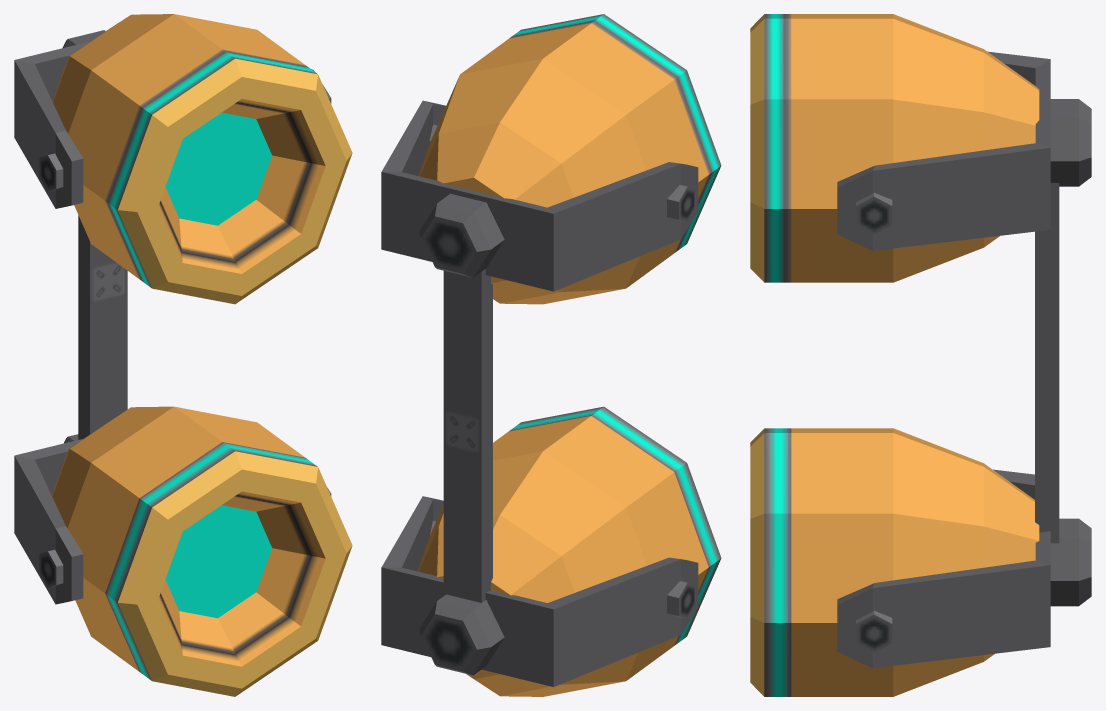
File: SM_Prop_Lamp_06.fbx
3 views of the same model, side by side, from view 1: azimuth 30°, elevation 25°; view 2: azimuth 150°, elevation 25°; view 3: azimuth 270°, elevation 25° (orthographic). The views are drawn at different scales.
Visible parts, largest first — view 1: SM_Prop_Lamp_06; view 2: SM_Prop_Lamp_06; view 3: SM_Prop_Lamp_06.
Boxes of the visible parts, box(x1,y1,x2,y2) form: SM_Prop_Lamp_06: box(14, 14, 352, 696); SM_Prop_Lamp_06: box(381, 14, 721, 696); SM_Prop_Lamp_06: box(750, 14, 1091, 696).
Size of the model in its own units: 46.05 by 103 by 47.33.
